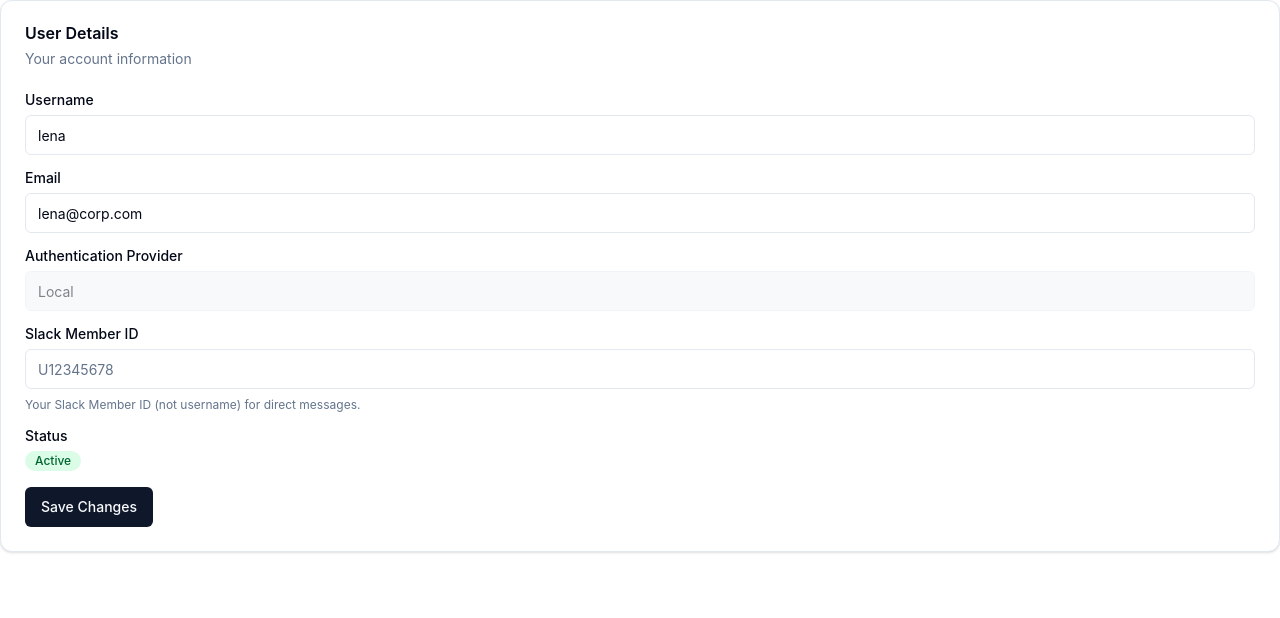
Test: UserDetailsCard › says under both fields that a blank name and a blank address need a value
The width and height of the screenshot is (1280, 618).
Clear the field labelled "Username" at (640, 135), box [25,115,1255,155]
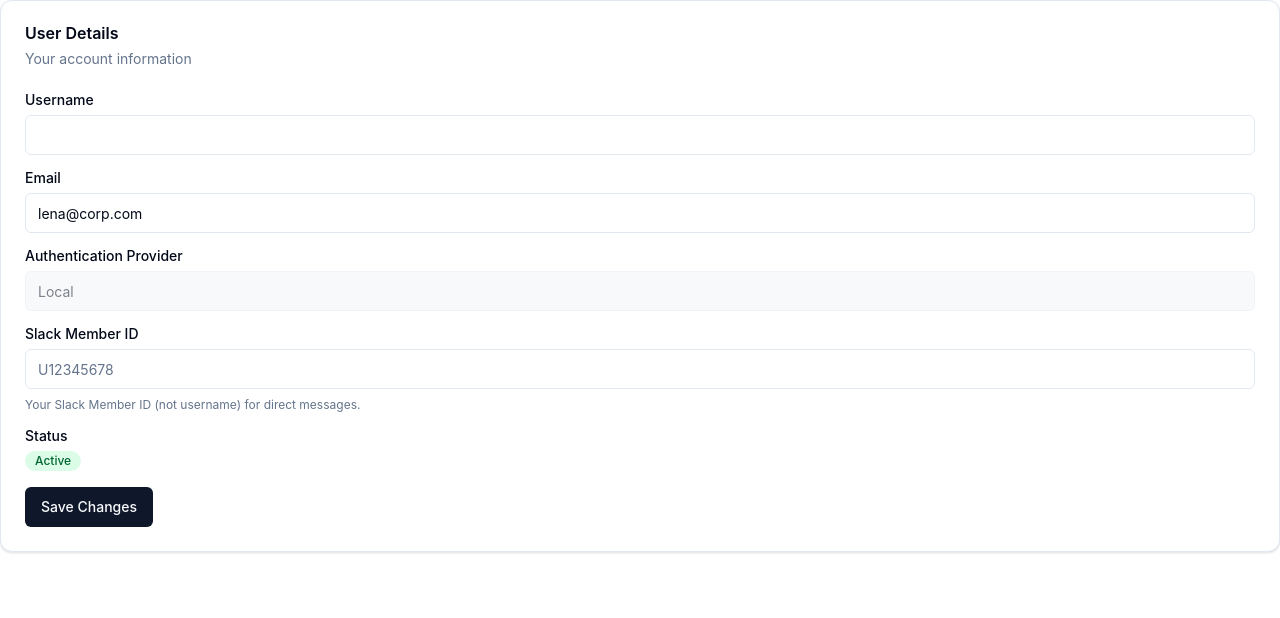
Clear the field labelled "Email" at (640, 213), box [25,193,1255,233]
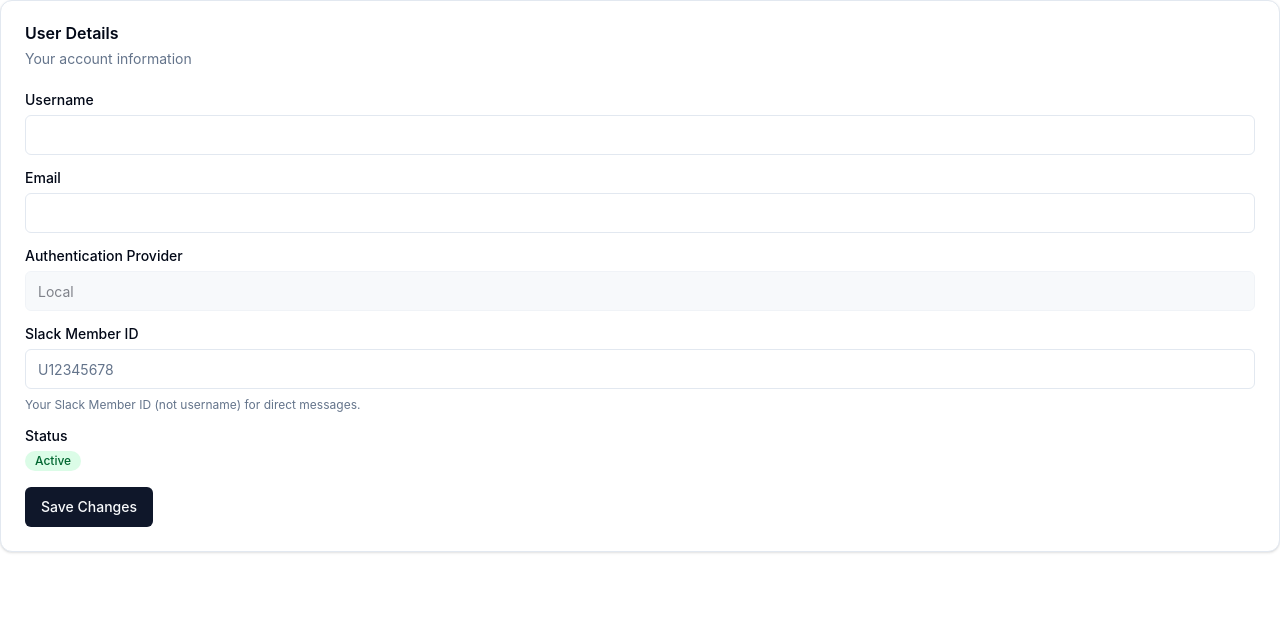
Click the button "Save Changes" at (89, 507), box [25,487,153,527]
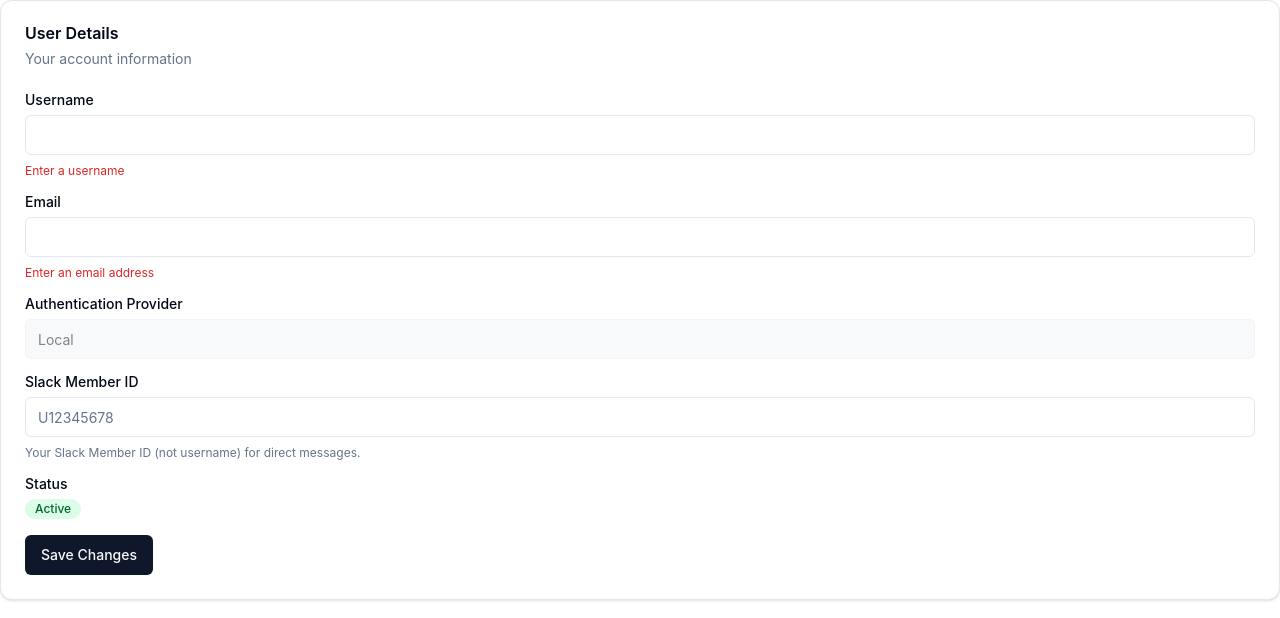
Expected: the messages read "Enter a username", "Enter an email address", in this order, [25,163,125,178]; [25,265,154,280]
